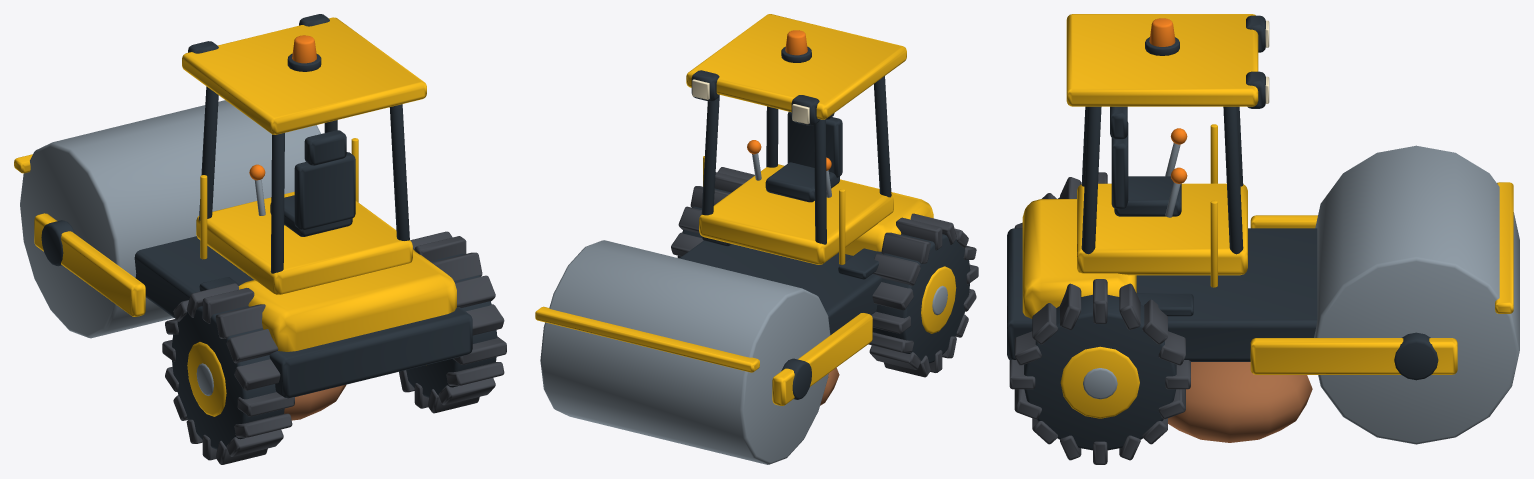
The model's file is roller.glb.
The picture shows the model from 3 angles, left to right: view 1: azimuth 30°, elevation 25°; view 2: azimuth 150°, elevation 25°; view 3: azimuth 270°, elevation 25°; orthographic projection. The views are drawn at different scales.
Visible parts, largest first — view 1: steel drum, cab sill.006, drum fork, axle, headlight housing.012, tread block.256, tread block.272, tire.016, tire.017, rim.016, material load.005, beacon.006; view 2: steel drum, cab sill.006, headlight housing.012, drum fork, tread block.256, axle, tire.016, tread block.272, rim.016, headlight lens.012, beacon.006; view 3: steel drum, cab sill.006, axle, drum fork, tire.017, headlight housing.012, tread block.272, material load.005, rim.017, hub.037, beacon.006, tread block.256 (+1 smaller).
Part boxes in pixels (<box>): steel drum: <box>20,100,321,338</box>; cab sill.006: <box>182,17,426,294</box>; drum fork: <box>14,154,456,351</box>; axle: <box>41,220,472,398</box>; headlight housing.012: <box>188,14,409,291</box>; tread block.256: <box>162,283,294,464</box>; tread block.272: <box>399,231,506,413</box>; tire.016: <box>172,306,284,449</box>; tire.017: <box>406,253,497,397</box>; rim.016: <box>187,342,226,416</box>; material load.005: <box>284,384,346,420</box>; beacon.006: <box>292,35,316,63</box>; steel drum: <box>540,240,830,464</box>; cab sill.006: <box>686,14,906,264</box>; headlight housing.012: <box>691,70,891,279</box>; drum fork: <box>535,192,933,405</box>; tread block.256: <box>868,213,978,377</box>; axle: <box>679,240,882,399</box>; tire.016: <box>872,234,970,363</box>; tread block.272: <box>671,167,754,256</box>; rim.016: <box>921,266,956,333</box>; headlight lens.012: <box>692,79,809,124</box>; beacon.006: <box>785,30,807,55</box>; steel drum: <box>1314,145,1519,444</box>; cab sill.006: <box>1066,14,1258,287</box>; axle: <box>1007,228,1438,380</box>; drum fork: <box>1022,182,1513,374</box>; tire.017: <box>1024,294,1176,450</box>; headlight housing.012: <box>1081,15,1265,316</box>; tread block.272: <box>1009,279,1190,464</box>; material load.005: <box>1168,362,1312,442</box>; rim.017: <box>1060,346,1139,418</box>; hub.037: <box>1083,368,1117,399</box>; beacon.006: <box>1149,18,1175,46</box>; tread block.256: <box>1014,172,1107,228</box>.
Bounding box in the file's own units: 3 × 4.35 × 4.95.
